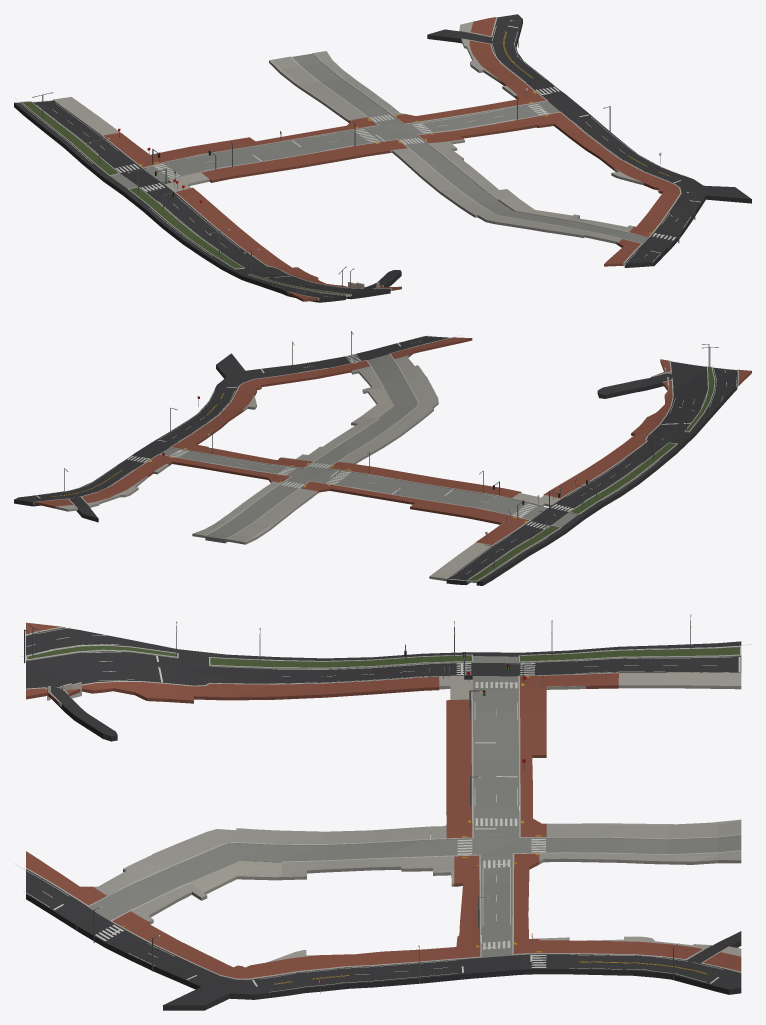
The picture shows the model from 3 angles, top to bottom: view 1: azimuth 30°, elevation 25°; view 2: azimuth 150°, elevation 25°; view 3: azimuth 270°, elevation 25°; orthographic projection. The views are drawn at different scales.
Size of the model in its own units: 147 by 24.21 by 150.
